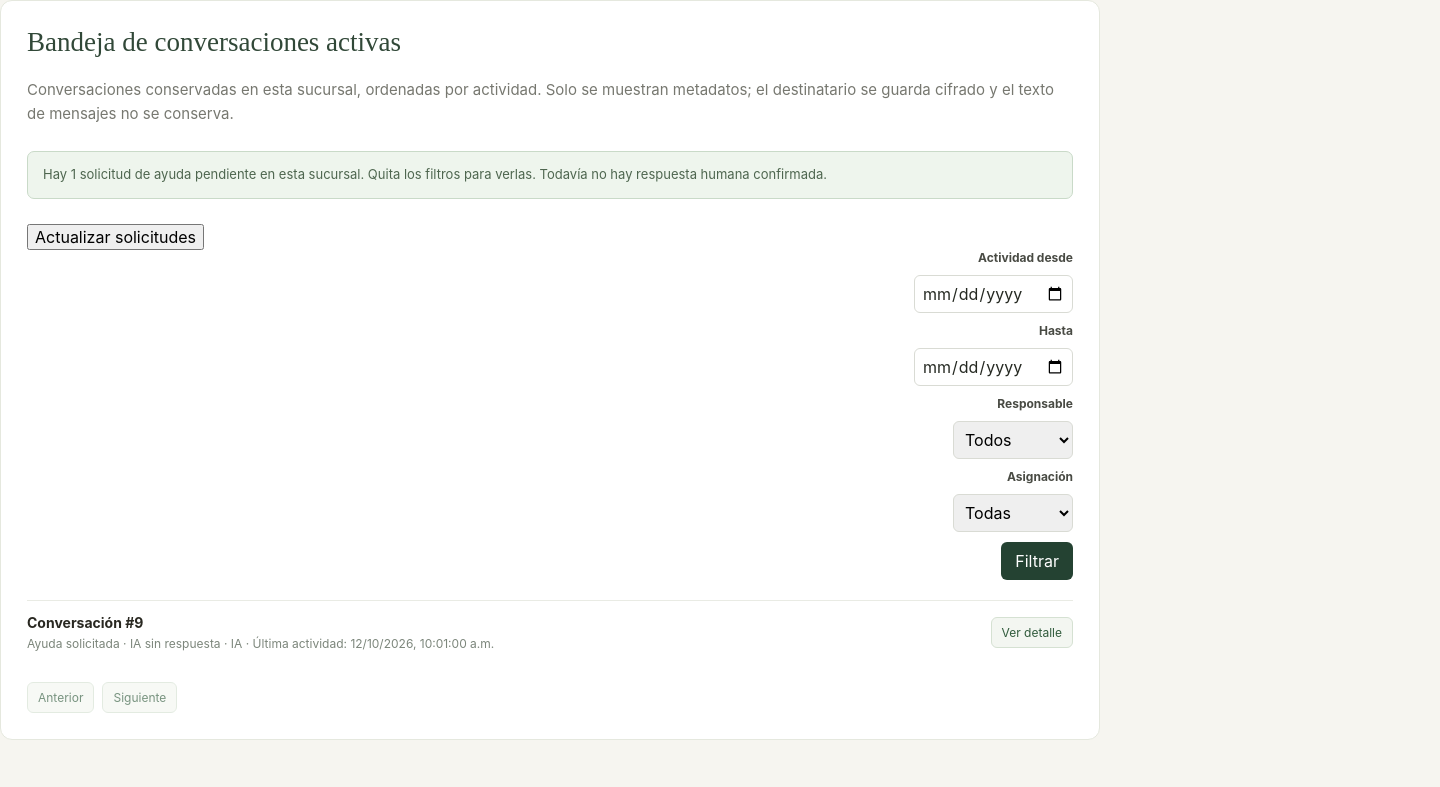
Test: avisa en la bandeja que la solicitud sigue pendiente sin atribuir respuesta humana
Expected: the text "Hay 1 solicitud de ayuda pendiente" is shown, left=27, top=151, right=1073, bottom=198
Expected: the text "Ayuda solicitada · IA sin respuesta" is shown, left=27, top=636, right=231, bottom=650
Click the button "Ver detalle": [1032, 632] box left=991, top=616, right=1073, bottom=648
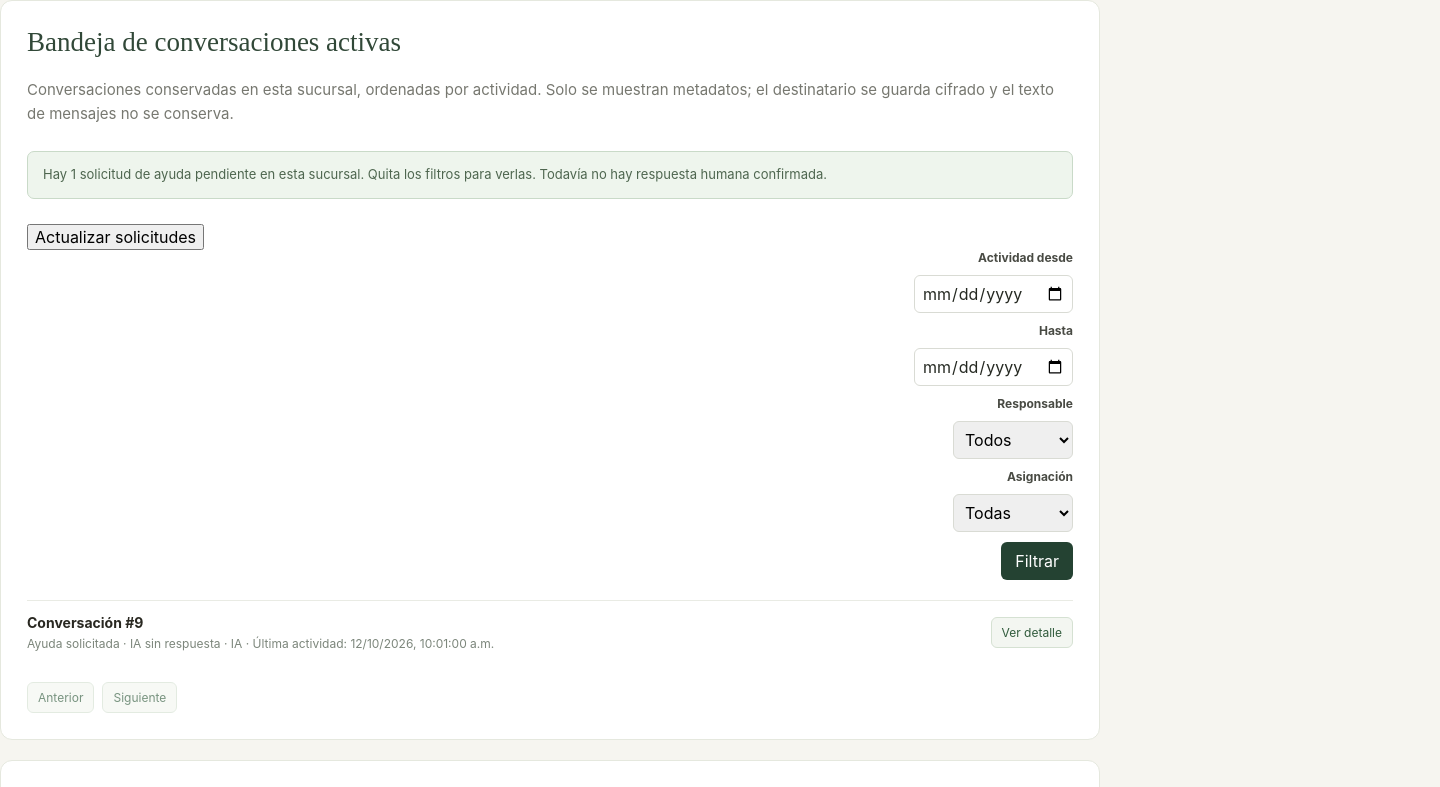
Select "Personal" in the dropdown labelled "Responsable": [1013, 440] box left=953, top=420, right=1073, bottom=458
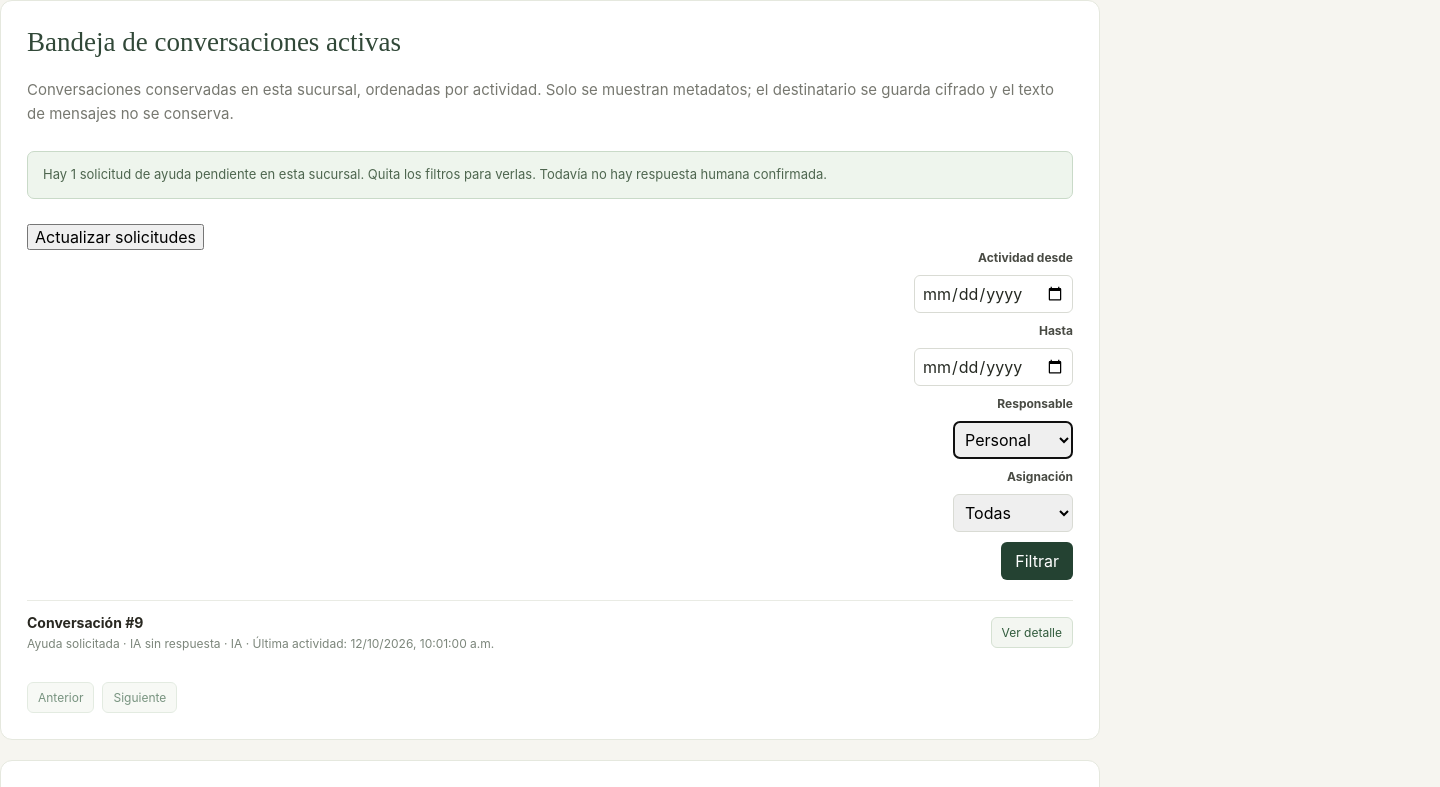
Click the button "Filtrar": [1037, 560] box left=1001, top=542, right=1073, bottom=580
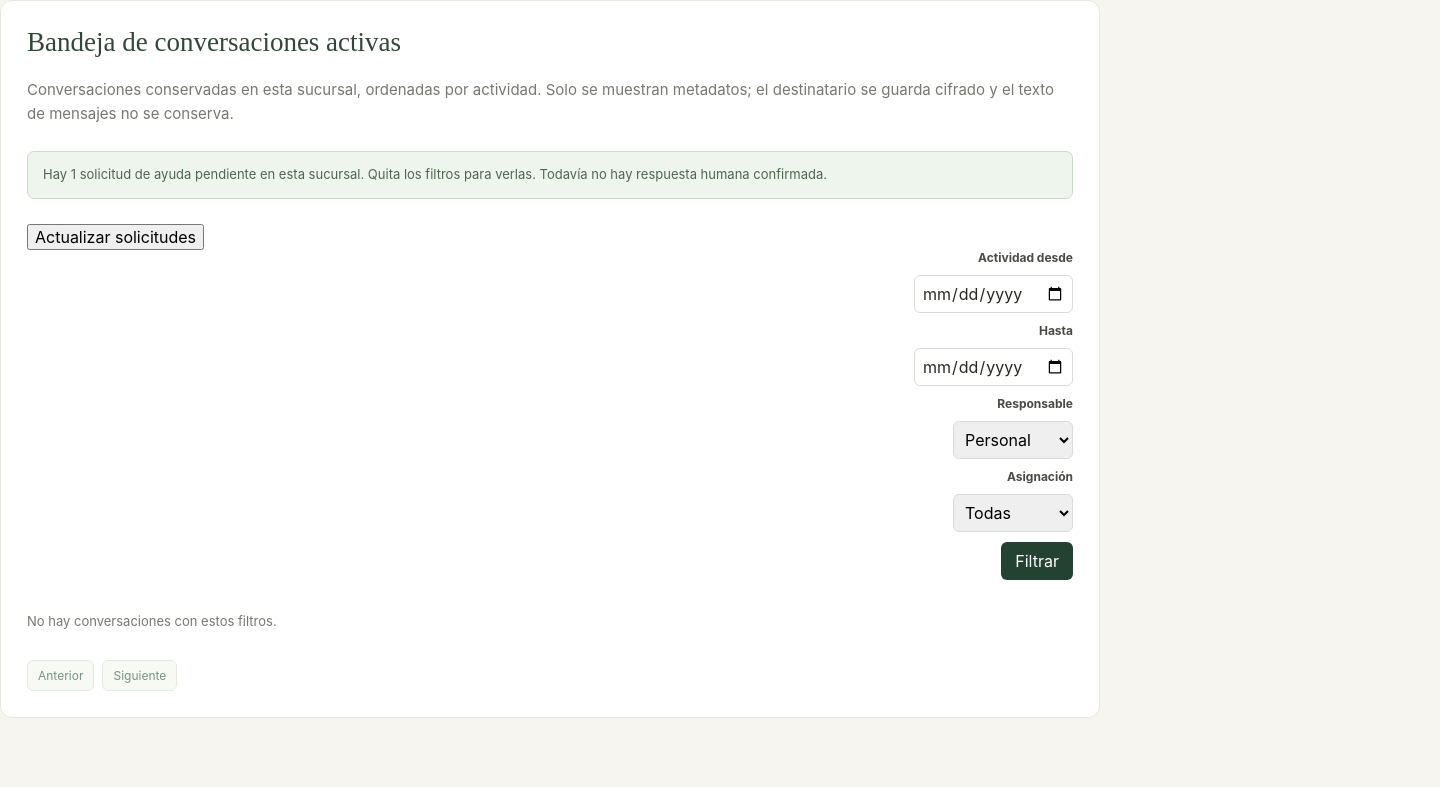
Expected: the text "Hay 1 solicitud de ayuda pendiente" is shown, left=27, top=151, right=1073, bottom=198
Result: the text "Conversación #9" is gone
